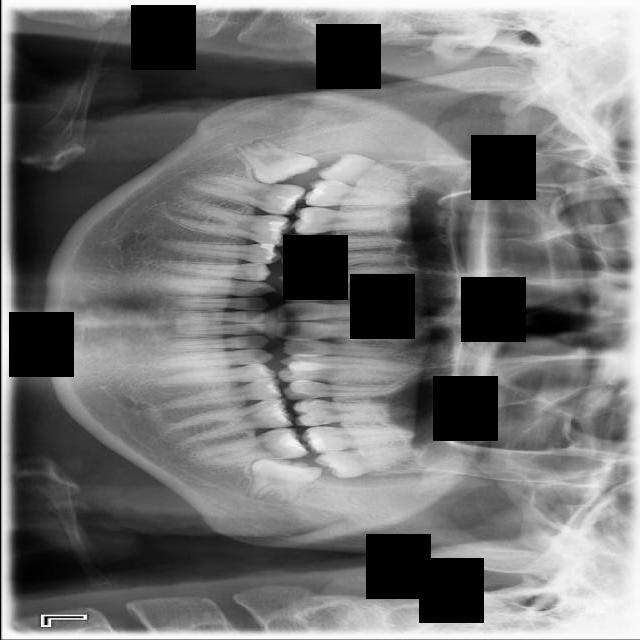3M ESPE Implant: (315, 149, 429, 196)
52: (242, 208, 292, 250), (248, 394, 294, 436), (243, 243, 280, 264)
73: (54, 610, 72, 622)
BioHorizons Implant: (299, 425, 416, 457)
BioLife Implant: (311, 444, 417, 481)
Biomet 3i Implant: (246, 454, 325, 506)
Blue Sky Bio Implant: (194, 425, 310, 467)
Caries: (303, 179, 423, 208)
Implant: (188, 171, 307, 218)
Keystone Dental Implant: (226, 130, 320, 200)
